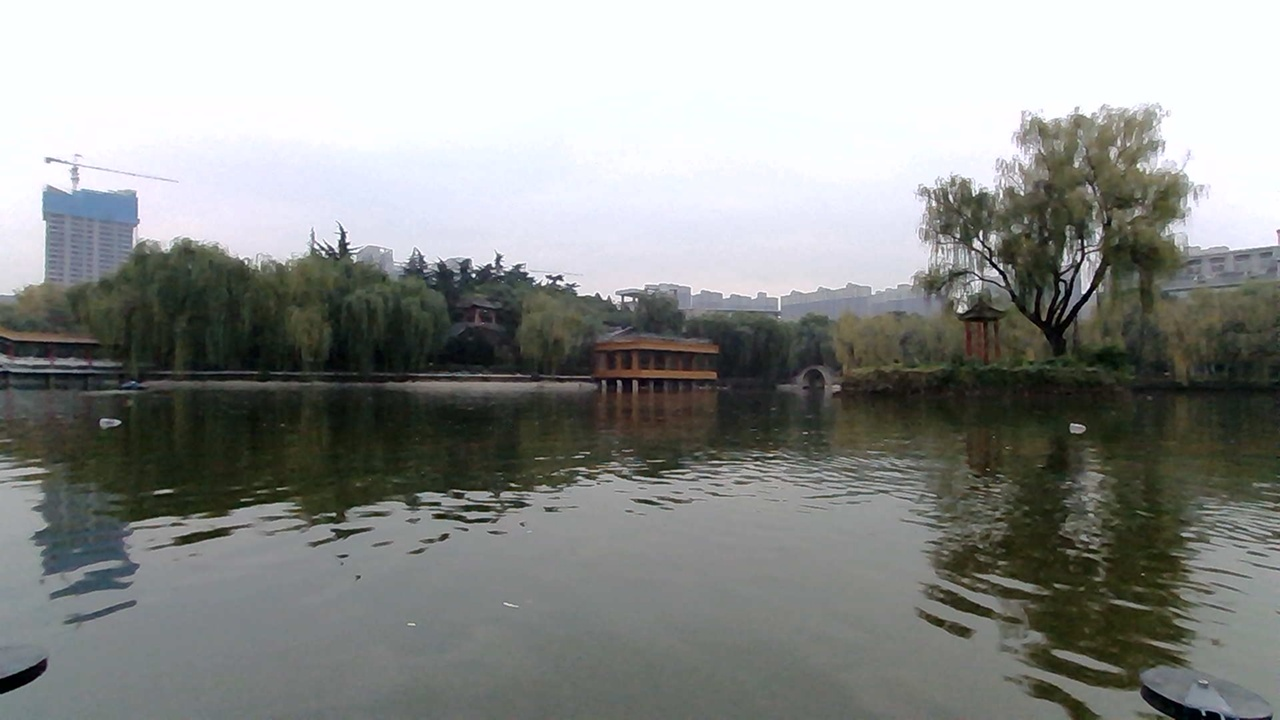bottle: (83, 405, 137, 441), (1051, 406, 1101, 441)
